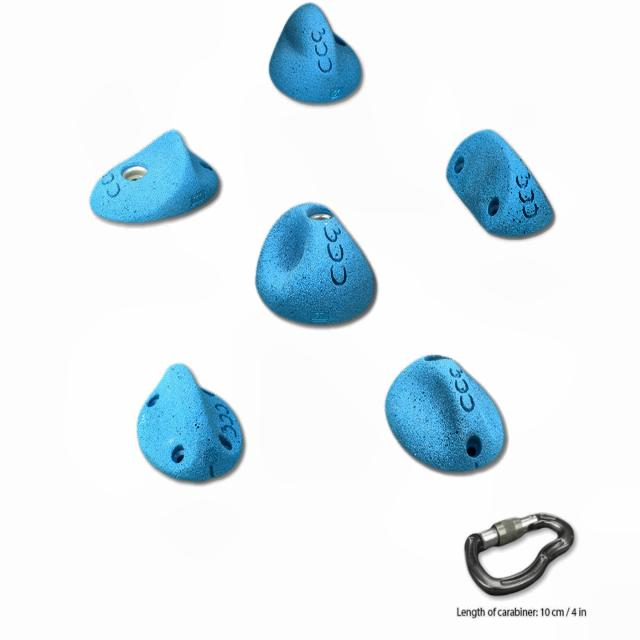Hold: (382, 356, 514, 477), (256, 204, 383, 329), (129, 361, 249, 485), (447, 124, 565, 242), (87, 130, 223, 226), (269, 0, 368, 113)
